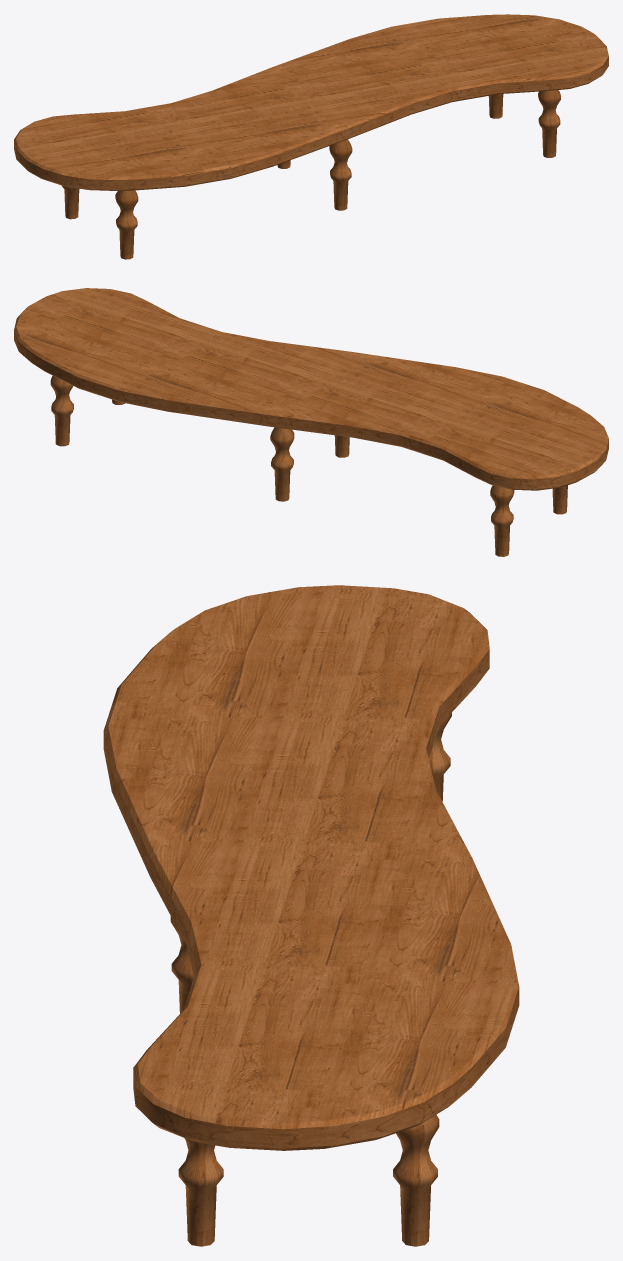
File: M_Home_Garden_Table04.fbx
3 renders of one model, top to bottom at view 1: azimuth 30°, elevation 25°; view 2: azimuth 150°, elevation 25°; view 3: azimuth 270°, elevation 25°, orthographic. The views are drawn at different scales.
Visible parts, largest first — view 1: M_Home_Garden_Table04; view 2: M_Home_Garden_Table04; view 3: M_Home_Garden_Table04.
Boxes of the visible parts, x1,y1,x2,y2 form: M_Home_Garden_Table04: [14, 14, 608, 259]; M_Home_Garden_Table04: [14, 288, 608, 556]; M_Home_Garden_Table04: [103, 585, 519, 1246].
Size of the model in its own units: 597 by 93.31 by 194.
